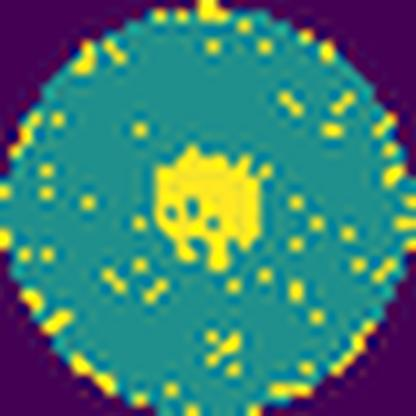Center: (152, 143, 268, 272)
